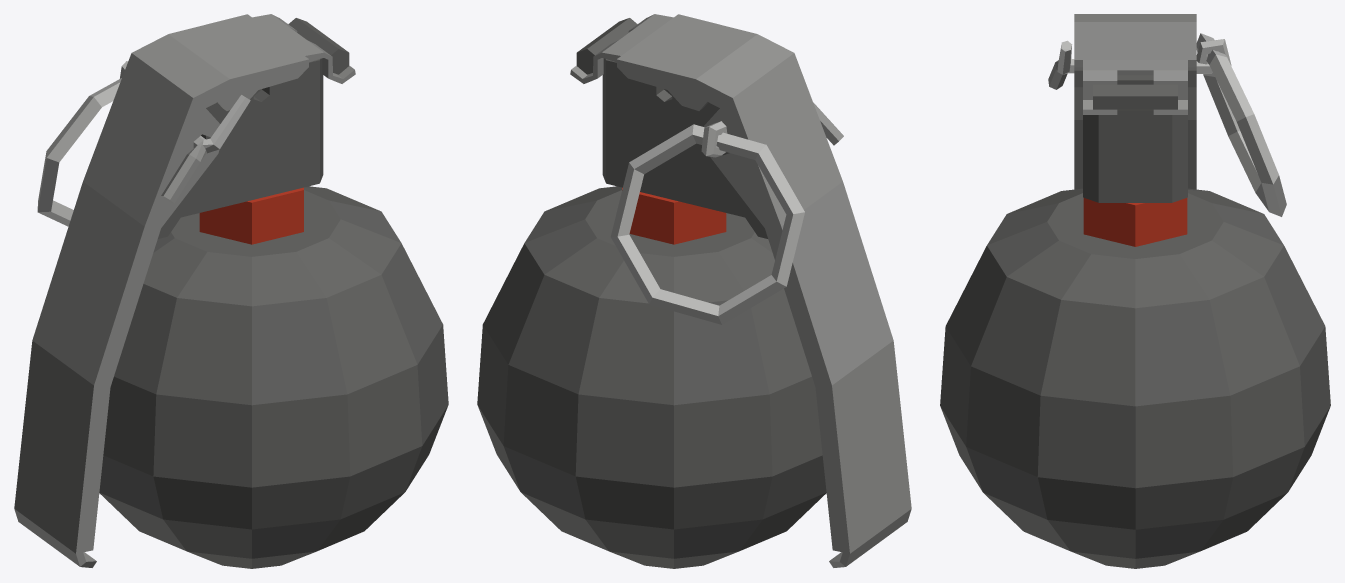
Rendered from SM_Bomb_010.fbx.
The picture shows the model from 3 angles, left to right: view 1: azimuth 30°, elevation 25°; view 2: azimuth 150°, elevation 25°; view 3: azimuth 270°, elevation 25°; orthographic projection.
Visible parts, largest first — view 1: SM_Bomb_010; view 2: SM_Bomb_010; view 3: SM_Bomb_010.
Boxes of the visible parts, x1,y1,x2,y2 form: SM_Bomb_010: (14, 14, 448, 568); SM_Bomb_010: (477, 14, 911, 568); SM_Bomb_010: (940, 14, 1330, 568).
Size of the model in its own units: 2.44 by 3.09 by 2.2.
1 material, 1 textured.
